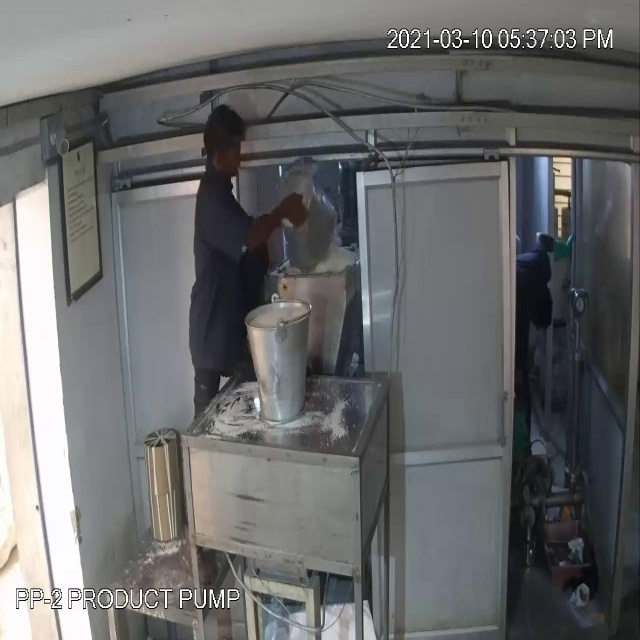Sin_guantes: (242, 187, 310, 248)
